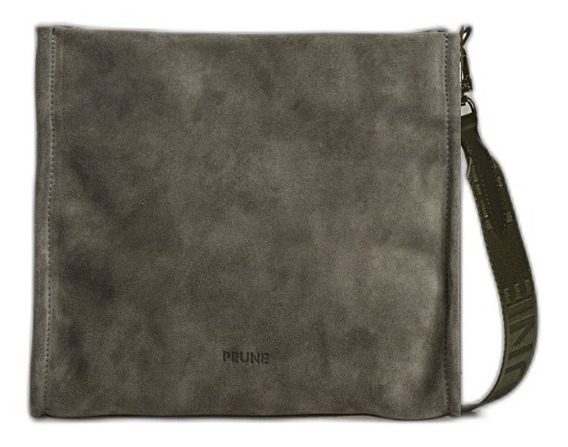cartera: (25, 20, 540, 421)
